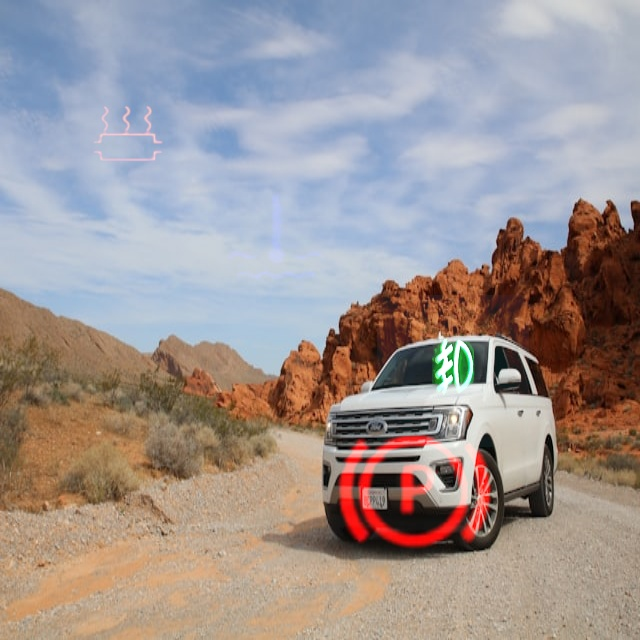symbol: (307, 386, 520, 599), (377, 295, 529, 447), (201, 162, 351, 312), (60, 66, 196, 202)
